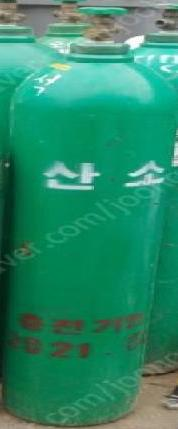cylinder: (1, 1, 178, 429)
